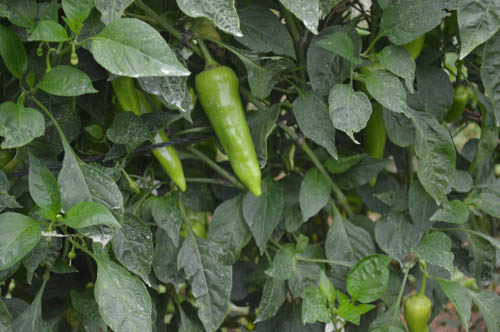ChiliPepper: (197, 70, 267, 192), (128, 88, 187, 195), (353, 58, 384, 183), (109, 69, 138, 119), (401, 295, 434, 327)
